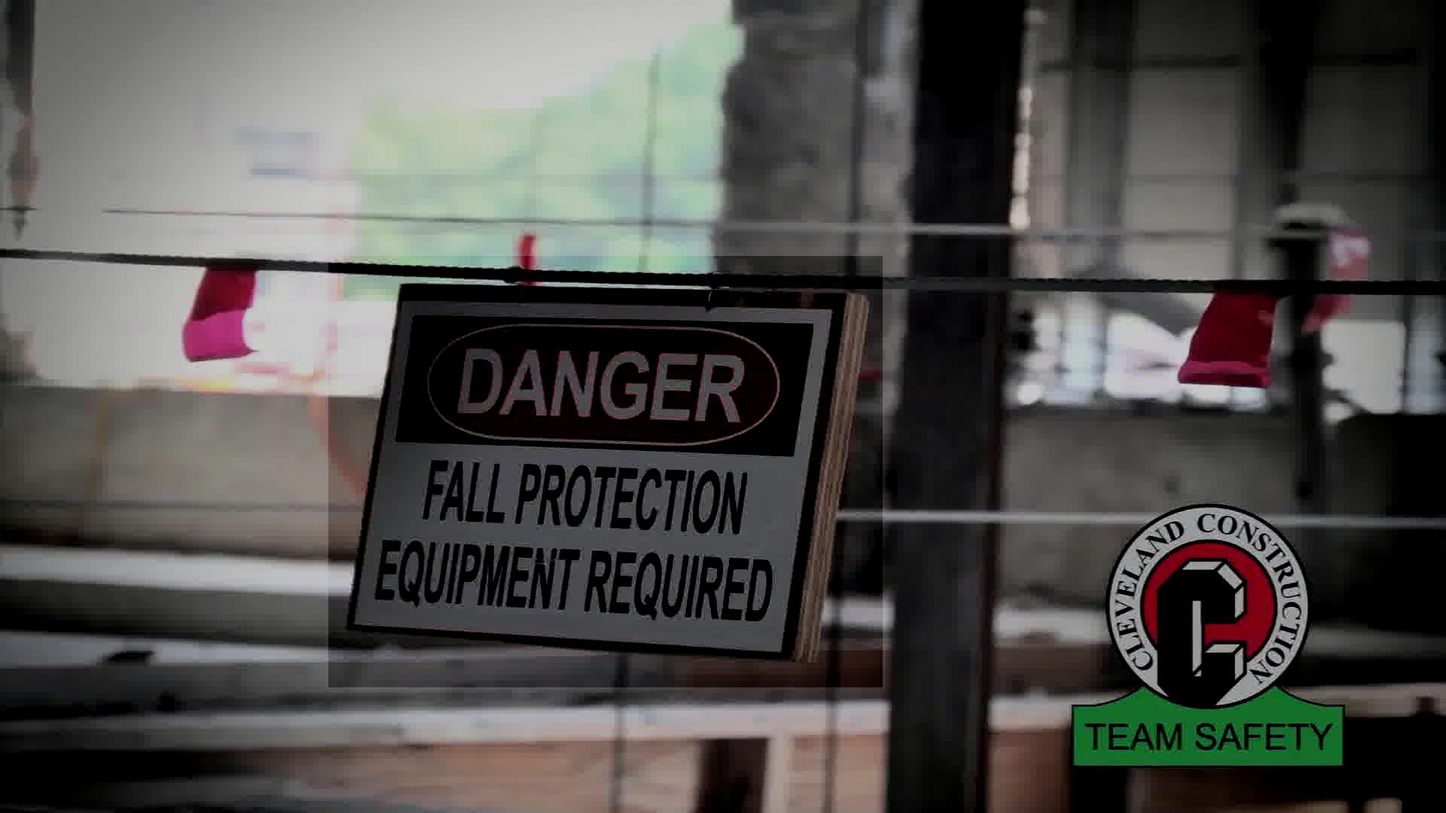safety_signage: (328, 256, 883, 687)
